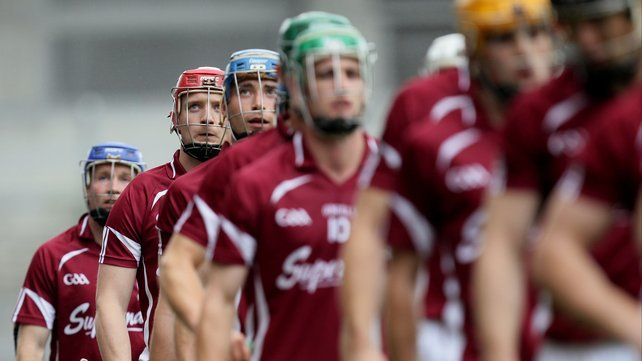player: (235, 26, 405, 334), (420, 9, 560, 327), (130, 69, 247, 308), (58, 146, 170, 341)
